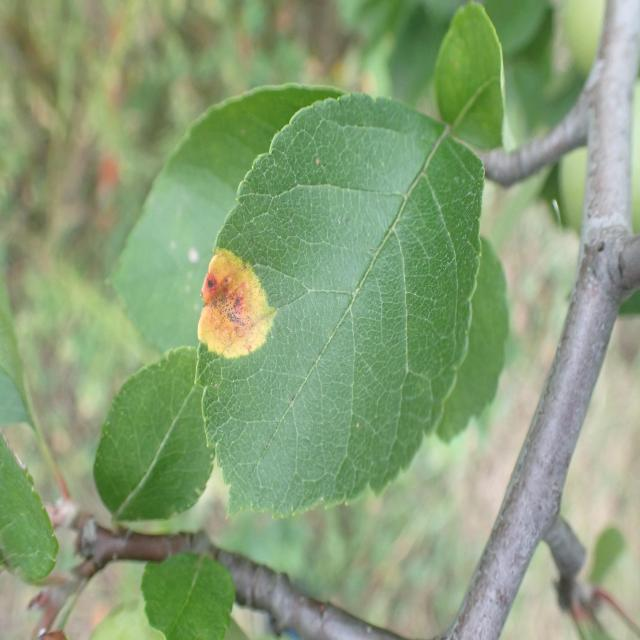Rust: (193, 230, 286, 382)
